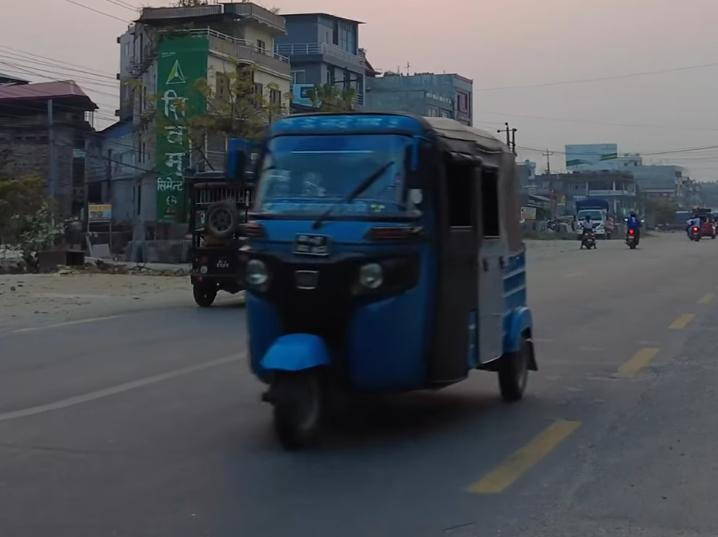auto_rickshaw: (228, 105, 547, 453)
